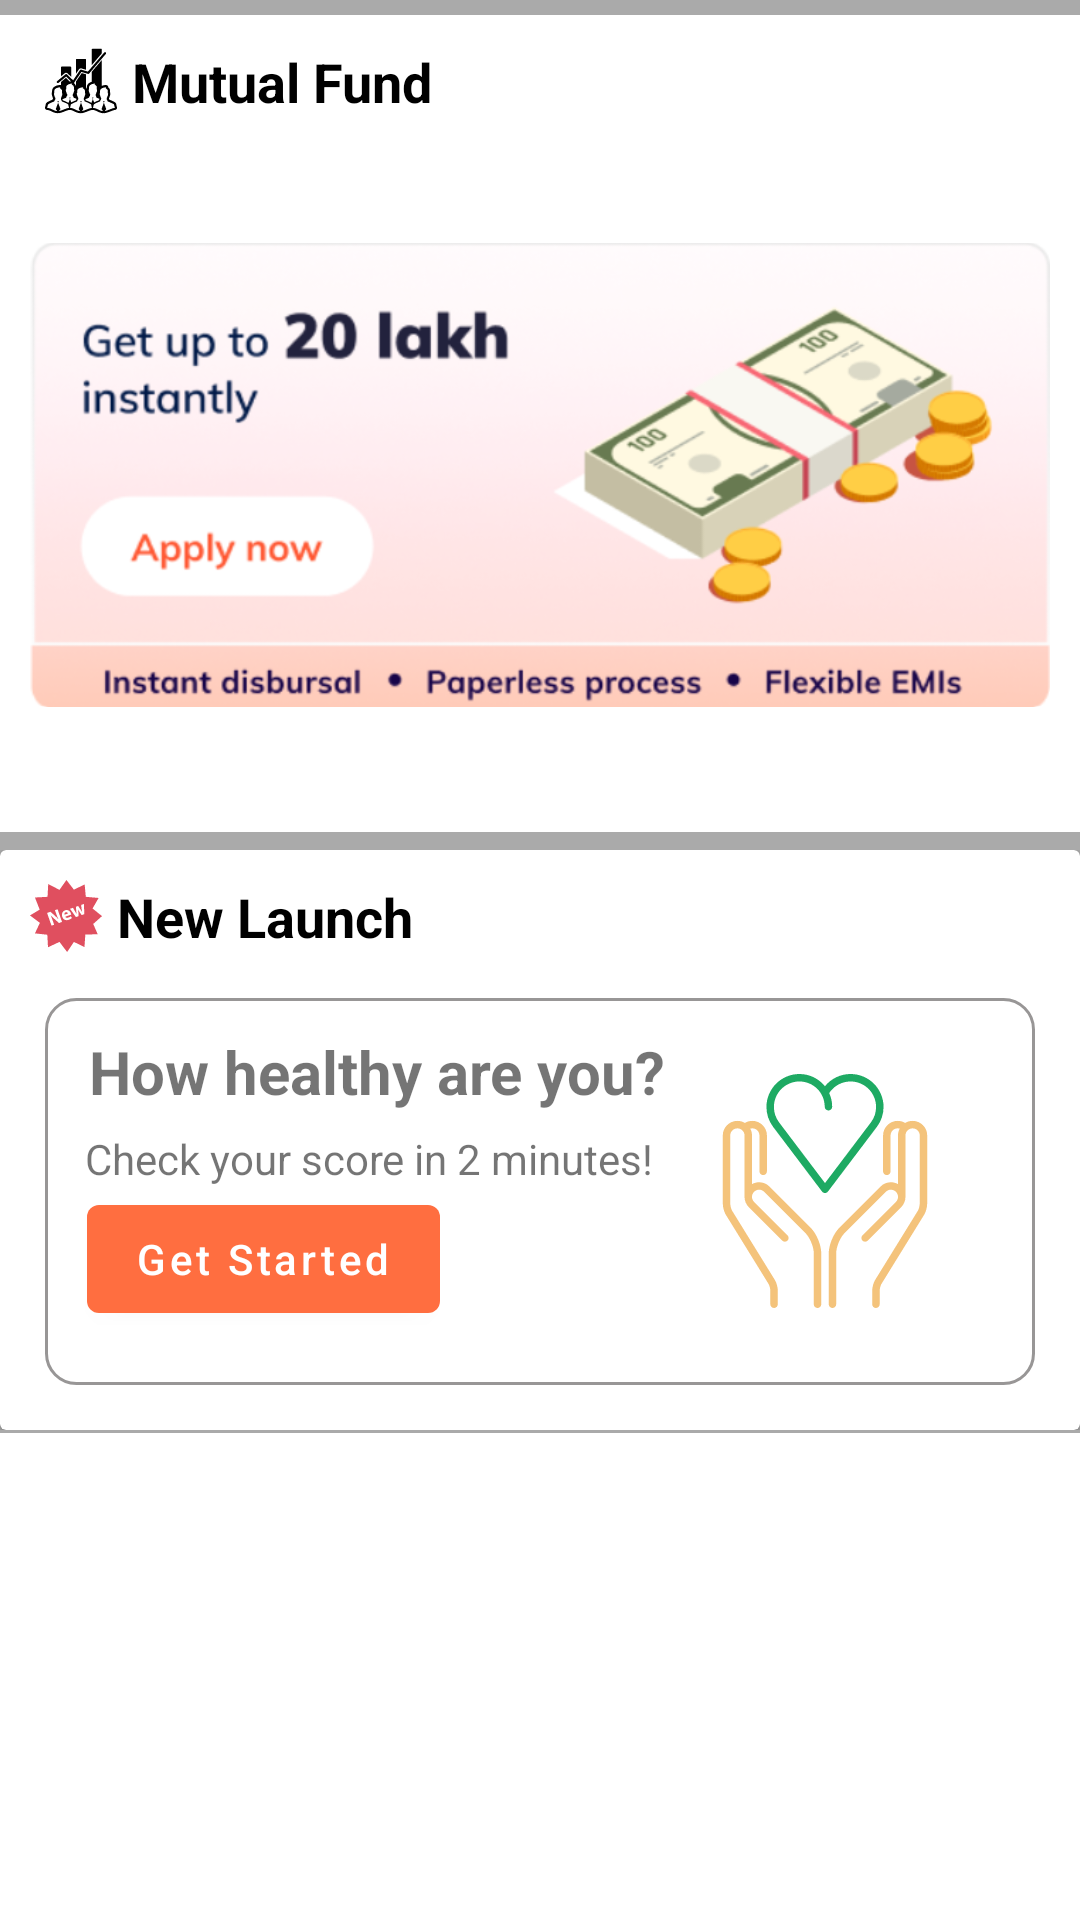

Where icons sit on this 1080 × 1920 app screen, as (x1, y1, x2, y2):
heart: (648, 1074, 928, 1308)
stock: (45, 48, 117, 114)
